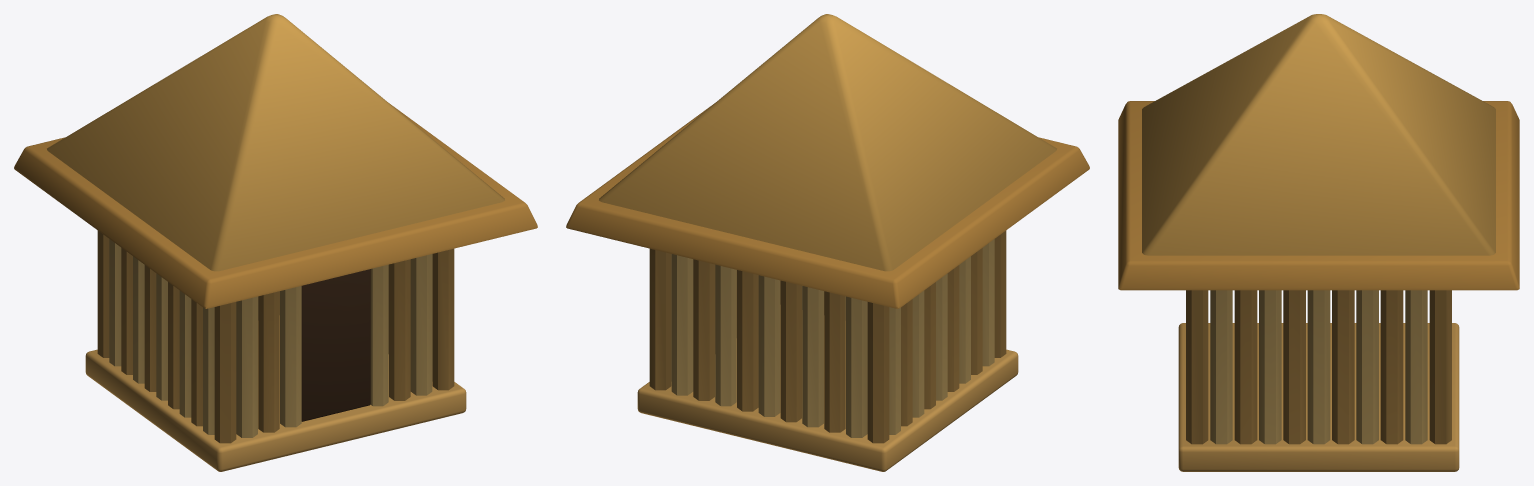
Rendered from hut.glb.
3 views of the same model, side by side, from view 1: azimuth 30°, elevation 25°; view 2: azimuth 150°, elevation 25°; view 3: azimuth 270°, elevation 25° (orthographic). The views are drawn at different scales.
Parts seen in each view (by area): view 1: hut; view 2: hut; view 3: hut.
Boxes of the visible parts, <box> form: hut: <box>14,14,537,471</box>; hut: <box>566,14,1089,471</box>; hut: <box>1118,14,1519,471</box>.
Size of the model in its own units: 4.29 by 4.65 by 4.29.
